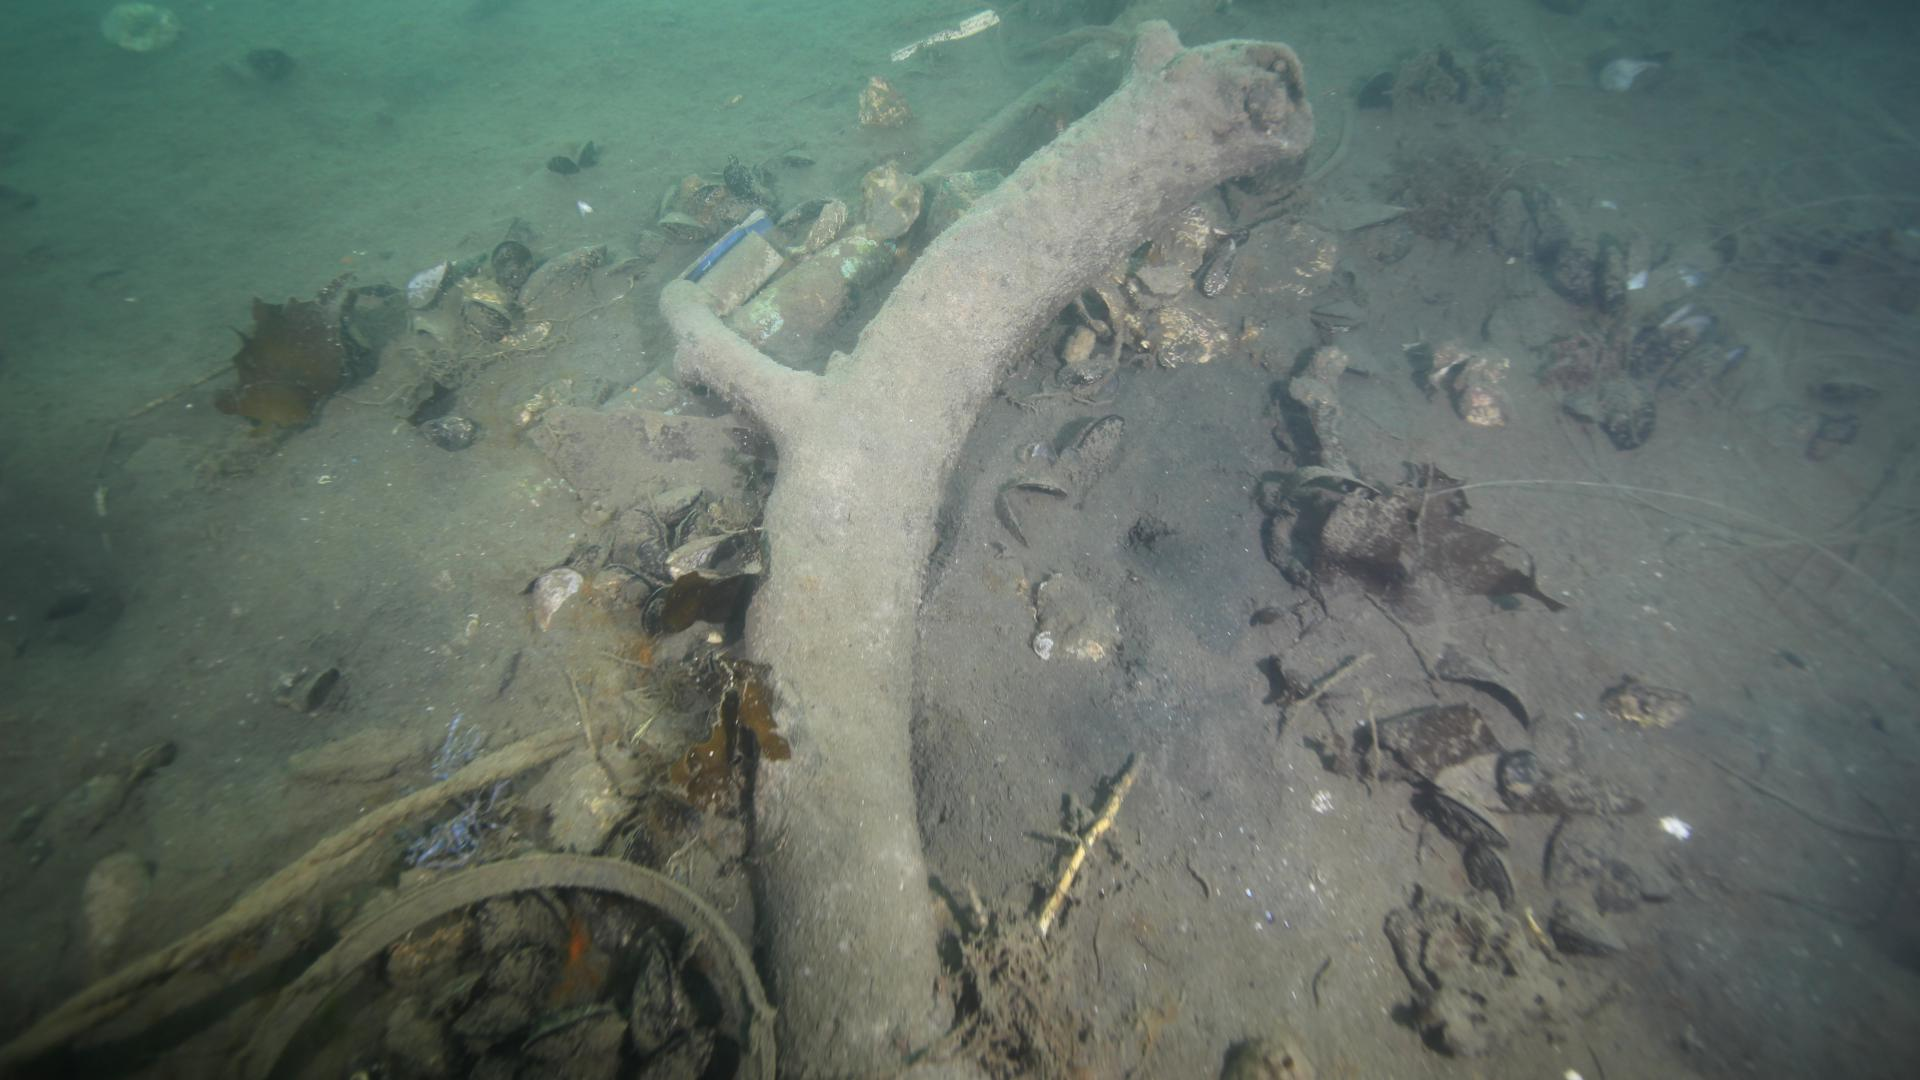wood: (657, 15, 1311, 1080)
